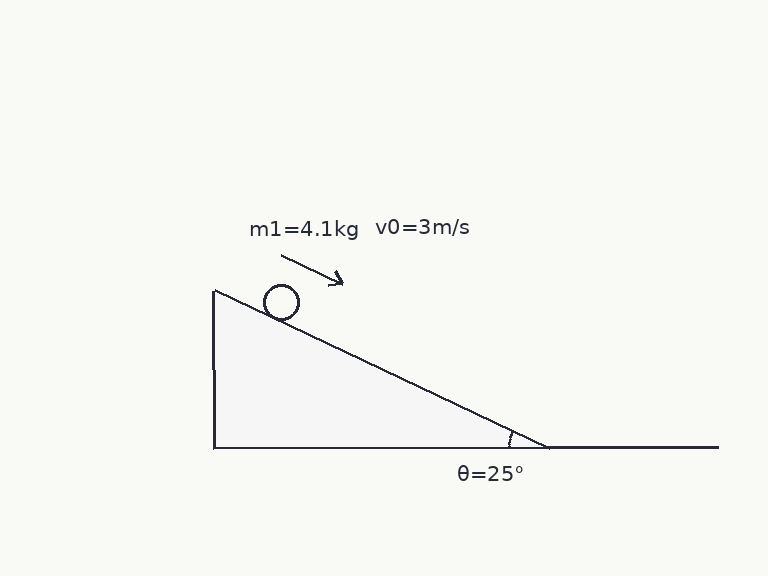ball: (261, 282, 301, 322)
ramp: (212, 289, 551, 449)
